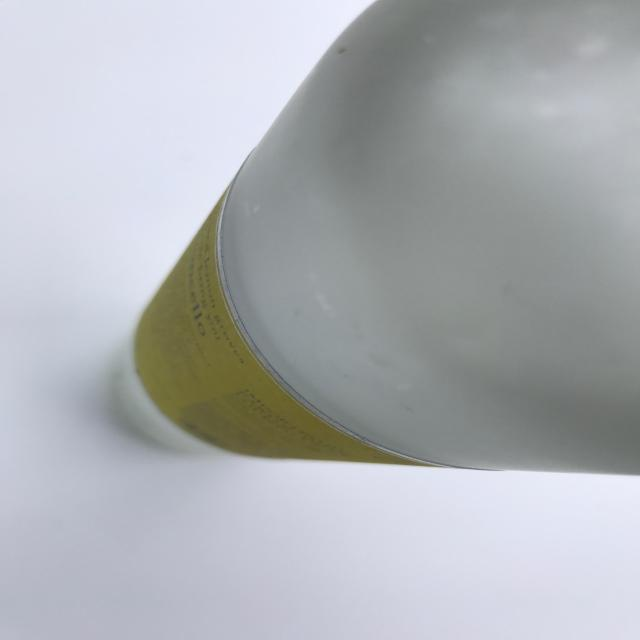glass: (117, 0, 639, 476)
